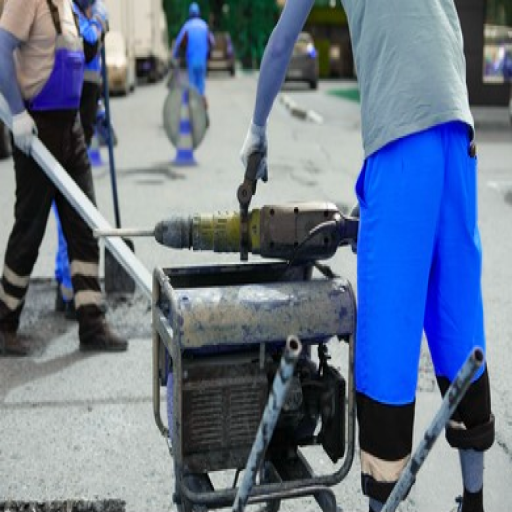portable_generator: (153, 263, 359, 502)
